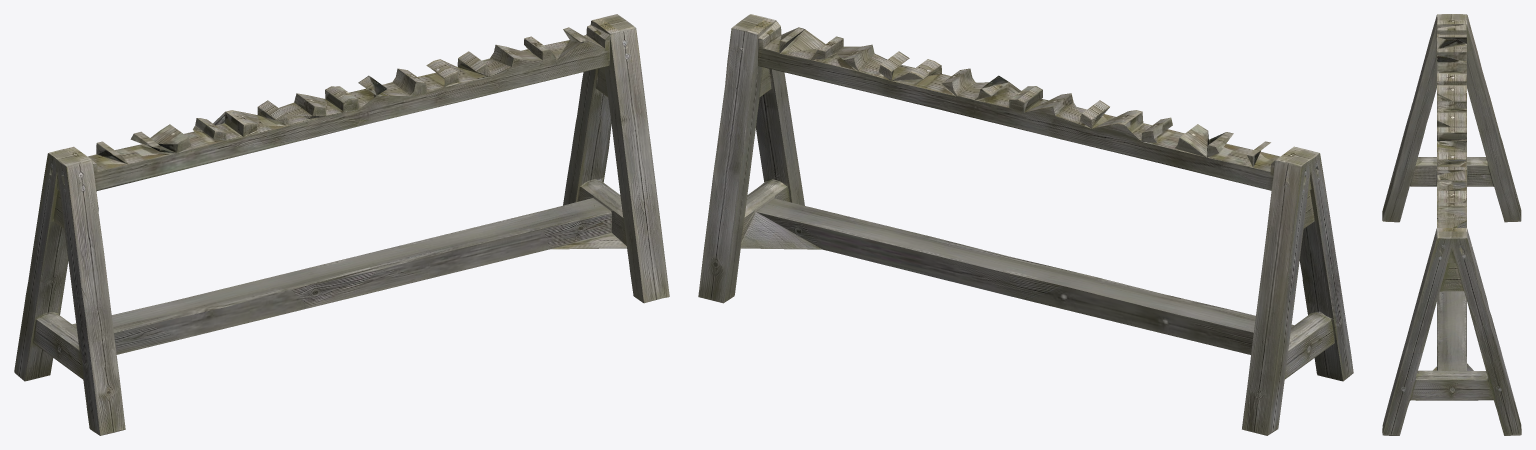
Rendered from gear_rack.glb.
3 views of the same model, side by side, from view 1: azimuth 30°, elevation 25°; view 2: azimuth 150°, elevation 25°; view 3: azimuth 270°, elevation 25° (orthographic). The views are drawn at different scales.
Visible parts, largest first — view 1: ground; view 2: ground; view 3: ground.
Part boxes in pixels (left/top/right/bottom): ground: left=14, top=14, right=669, bottom=435; ground: left=698, top=14, right=1353, bottom=435; ground: left=1382, top=14, right=1521, bottom=435.
Size of the model in its own units: 2.4 by 0.991 by 0.6297.
Materials: 1 (1 with a texture image).
